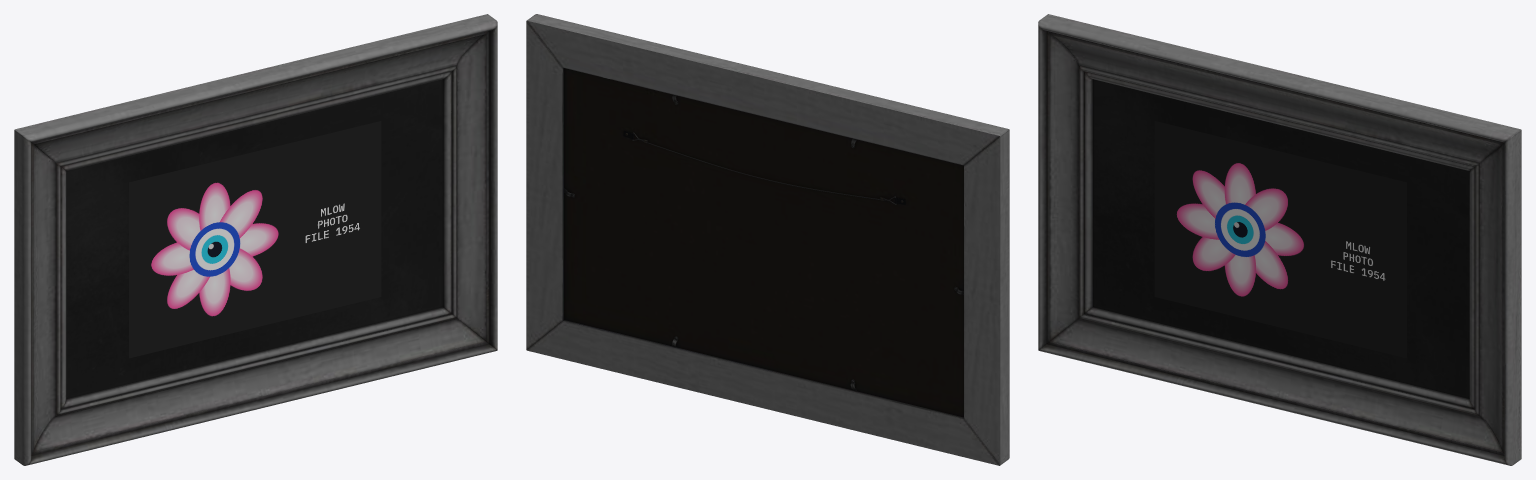
Rendered from nyb_rear_photo.glb.
3 renders of one model, left to right at view 1: azimuth 30°, elevation 25°; view 2: azimuth 150°, elevation 25°; view 3: azimuth 330°, elevation 25°, orthographic.
Parts seen in each view (by area): view 1: hanging_picture_frame_02, stk_lbl_66bc4c8076.png; view 2: hanging_picture_frame_02; view 3: hanging_picture_frame_02, stk_lbl_66bc4c8076.png.
Part boxes in pixels (x1=…): hanging_picture_frame_02: x1=14, y1=14, x2=497, y2=465; stk_lbl_66bc4c8076.png: x1=129, y1=121, x2=381, y2=358; hanging_picture_frame_02: x1=526, y1=14, x2=1009, y2=465; hanging_picture_frame_02: x1=1038, y1=14, x2=1521, y2=465; stk_lbl_66bc4c8076.png: x1=1154, y1=121, x2=1406, y2=358.
Bounding box in the file's own units: 0.7518 × 0.5 × 0.0331.
Materials: 4 (4 with a texture image).
